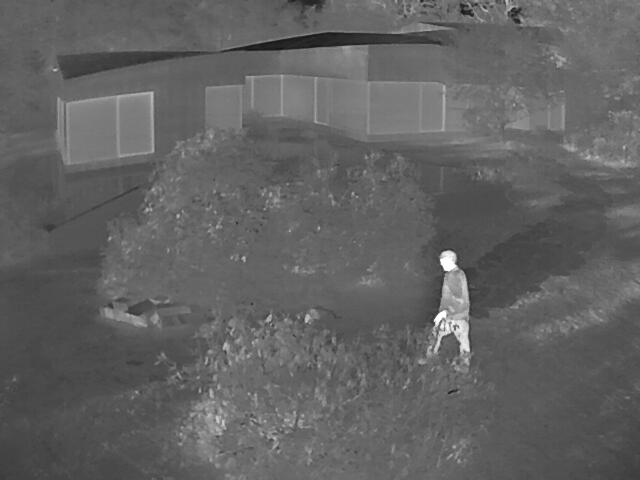person: (426, 250, 471, 375)
